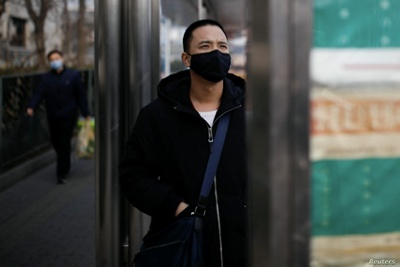good: (191, 37, 232, 83), (50, 56, 64, 71)
